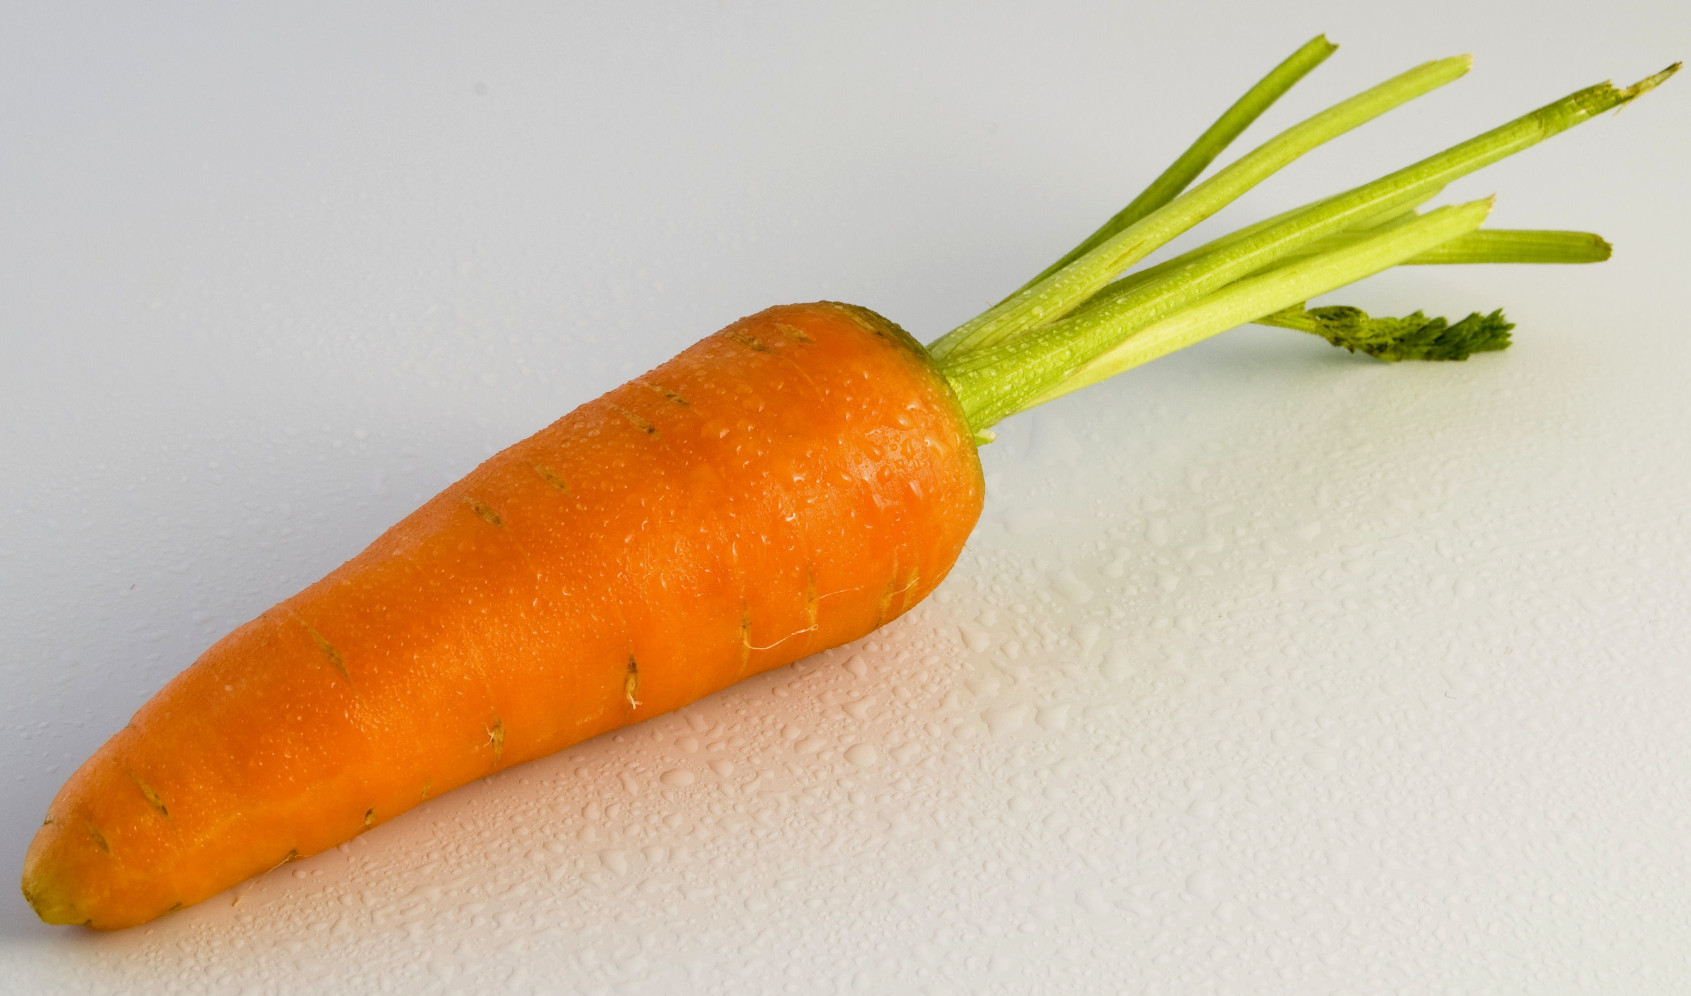carrot: (14, 172, 1357, 937)
